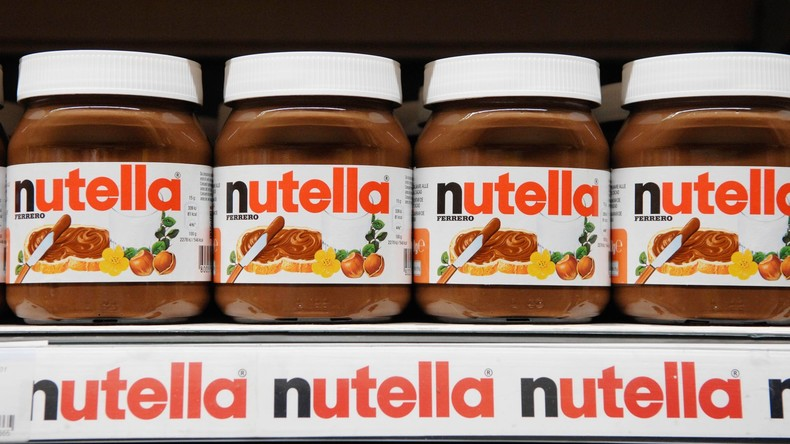nutella: (2, 50, 212, 325), (212, 51, 413, 326), (414, 50, 611, 323), (610, 51, 790, 326)
